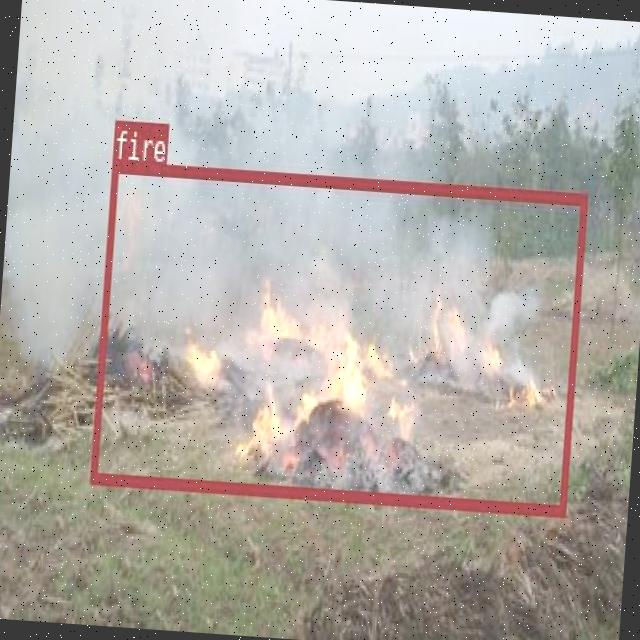fire: (89, 159, 586, 514)
